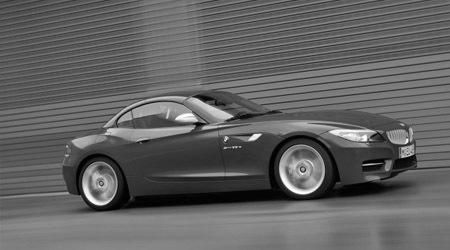car: (62, 91, 419, 213)
